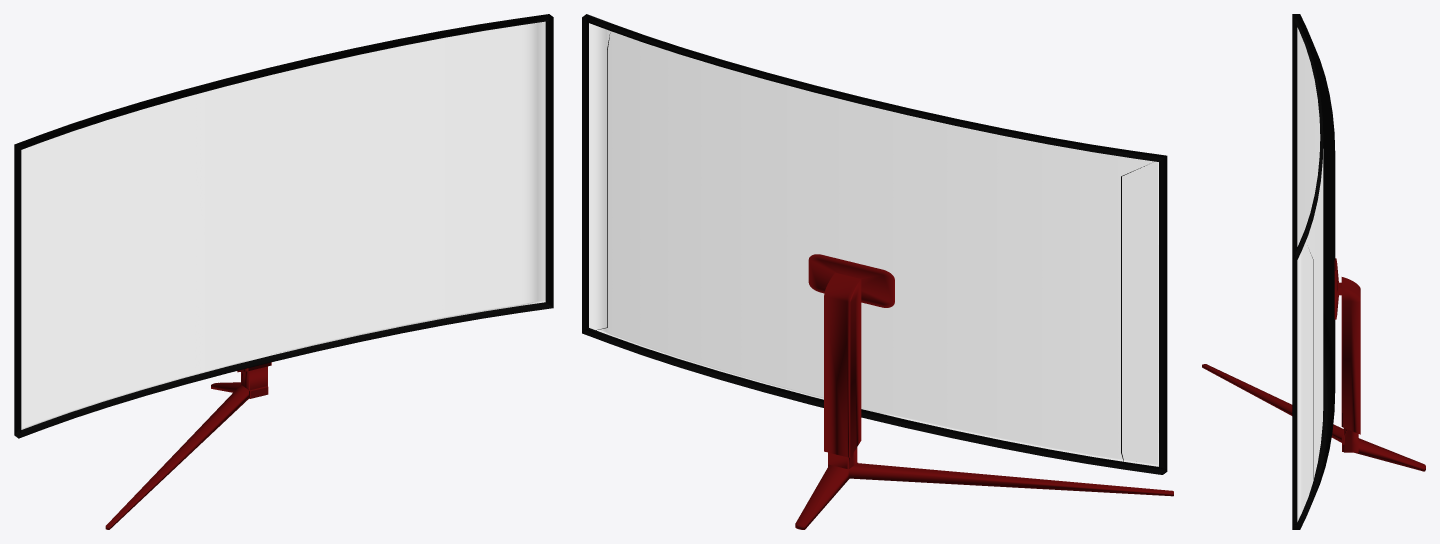
Rendered from monitor.gltf.
3 renders of one model, left to right at view 1: azimuth 30°, elevation 25°; view 2: azimuth 150°, elevation 25°; view 3: azimuth 270°, elevation 25°, orthographic. The views are drawn at different scales.
Visible parts, largest first — view 1: Plane, Cube.001, Cube; view 2: Plane, Cube, Cube.001, Cube.002; view 3: Plane, Cube, Cube.001, Cube.002.
Part boxes in pixels (box(x1,y1,x2,y2)): Plane: box(14, 14, 553, 438); Cube.001: box(105, 385, 248, 529); Cube: box(237, 362, 271, 398); Plane: box(582, 14, 1167, 474); Cube: box(808, 254, 894, 469); Cube.001: box(848, 463, 1173, 496); Cube.002: box(795, 465, 849, 529); Plane: box(1292, 14, 1335, 529); Cube: box(1334, 258, 1360, 452); Cube.001: box(1202, 364, 1343, 442); Cube.002: box(1354, 438, 1425, 471).
Size of the model in its own units: 3.85 by 2.46 by 1.49.
